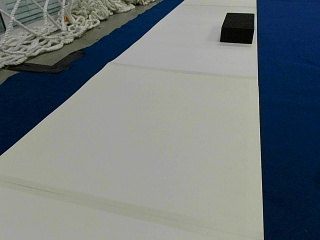block: (220, 12, 254, 42)
